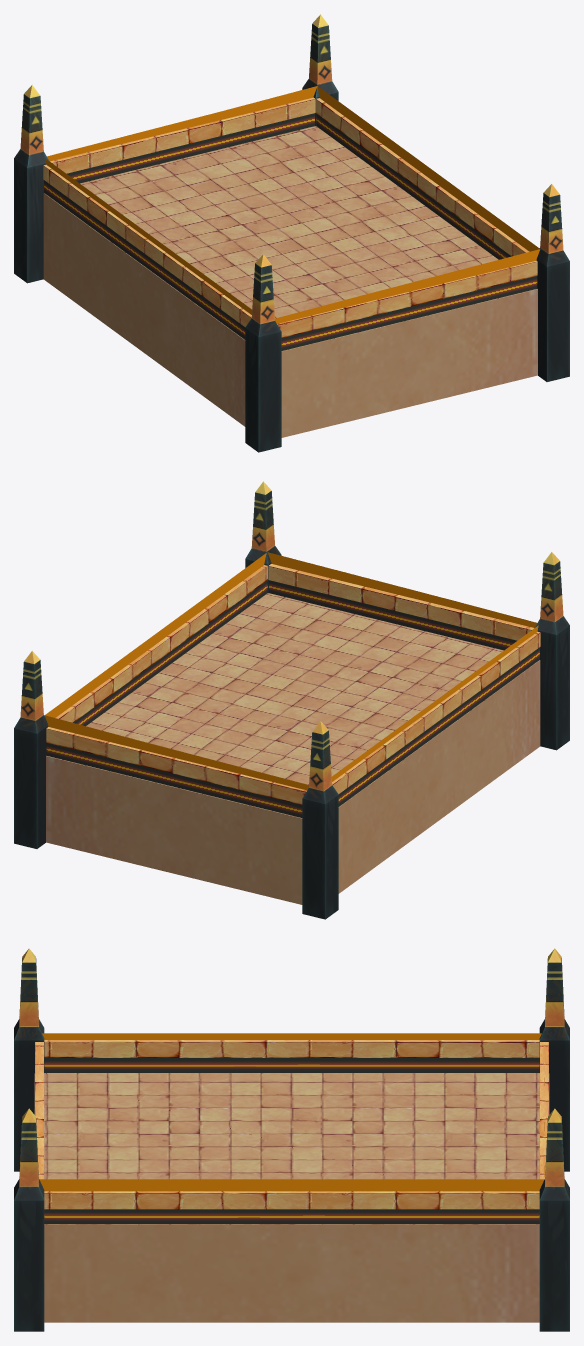
File: Boss_Stage 7 Variant.fbx
The picture shows the model from 3 angles, top to bottom: view 1: azimuth 30°, elevation 25°; view 2: azimuth 150°, elevation 25°; view 3: azimuth 270°, elevation 25°; orthographic projection. The views are drawn at different scales.
Visible parts, largest first — view 1: NY_Platform_Cube, CR_Platform_Cube.079, CR_Platform_Cube.080, Plane.196; view 2: NY_Platform_Cube, CR_Platform_Cube.079, CR_Platform_Cube.080, Plane.196; view 3: NY_Platform_Cube, CR_Platform_Cube.079, CR_Platform_Cube.080, Plane.196.
Part boxes in pixels (bbox=[...]): NY_Platform_Cube: bbox=[43, 126, 537, 437]; CR_Platform_Cube.079: bbox=[43, 97, 537, 350]; CR_Platform_Cube.080: bbox=[14, 14, 569, 452]; Plane.196: bbox=[45, 86, 540, 323]; NY_Platform_Cube: bbox=[46, 593, 540, 904]; CR_Platform_Cube.079: bbox=[46, 564, 540, 817]; CR_Platform_Cube.080: bbox=[14, 481, 569, 919]; Plane.196: bbox=[44, 552, 538, 790]; NY_Platform_Cube: bbox=[34, 1073, 549, 1322]; CR_Platform_Cube.079: bbox=[35, 1040, 548, 1223]; CR_Platform_Cube.080: bbox=[14, 948, 569, 1331]; Plane.196: bbox=[39, 1033, 544, 1191].
Size of the model in its own units: 3772 by 2230 by 5130.
